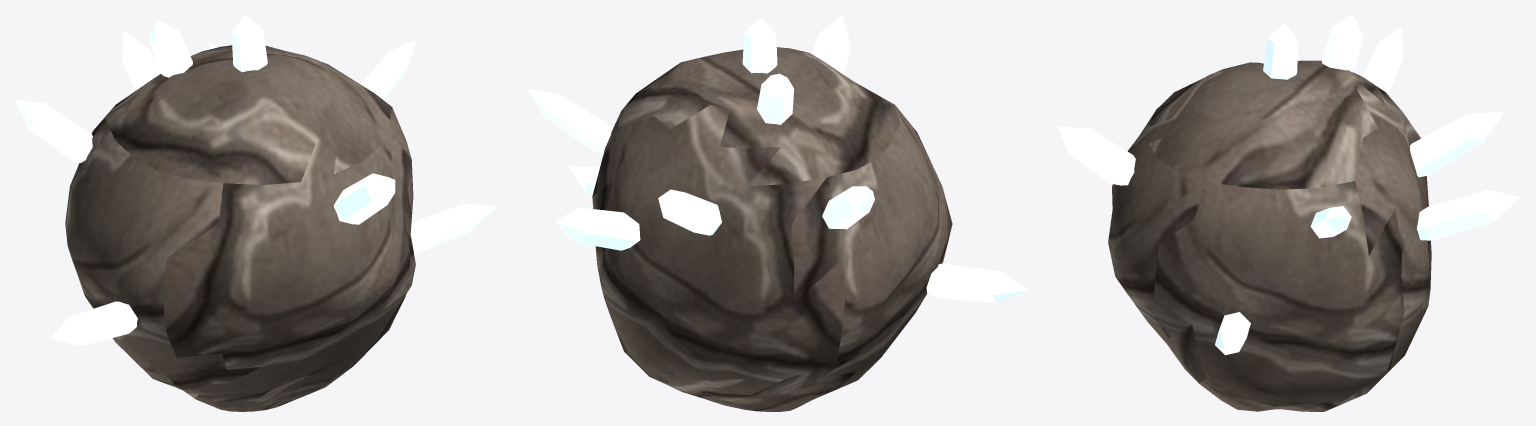
Rendered from ore_diamond.glb.
3 views of the same model, side by side, from view 1: azimuth 30°, elevation 25°; view 2: azimuth 150°, elevation 25°; view 3: azimuth 270°, elevation 25° (orthographic). The views are drawn at different scales.
Parts seen in each view (by area): view 1: ore_diamond; view 2: ore_diamond; view 3: ore_diamond.
Boxes of the visible parts, box(x1,y1,x2,y2) form: ore_diamond: box(14, 14, 497, 411); ore_diamond: box(526, 14, 1028, 411); ore_diamond: box(1057, 14, 1521, 411).
Size of the model in its own units: 0.6347 by 0.519 by 0.5726.
2 materials, 1 textured.
